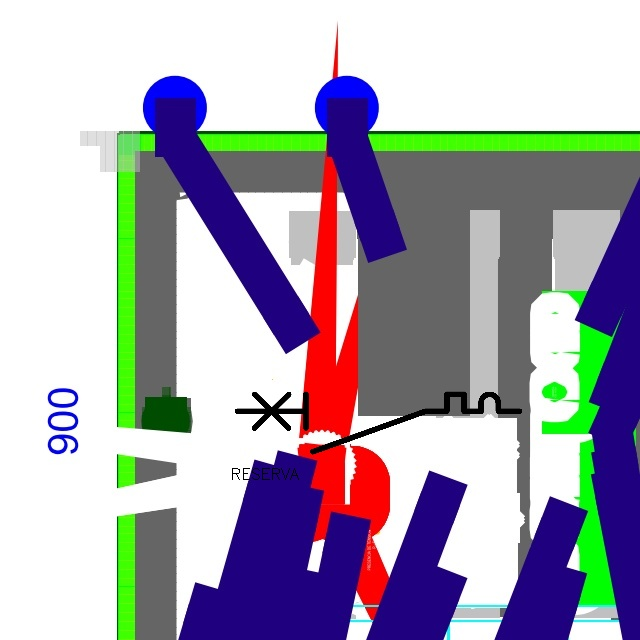interruptor_termomagnetico: (230, 387, 527, 459)
